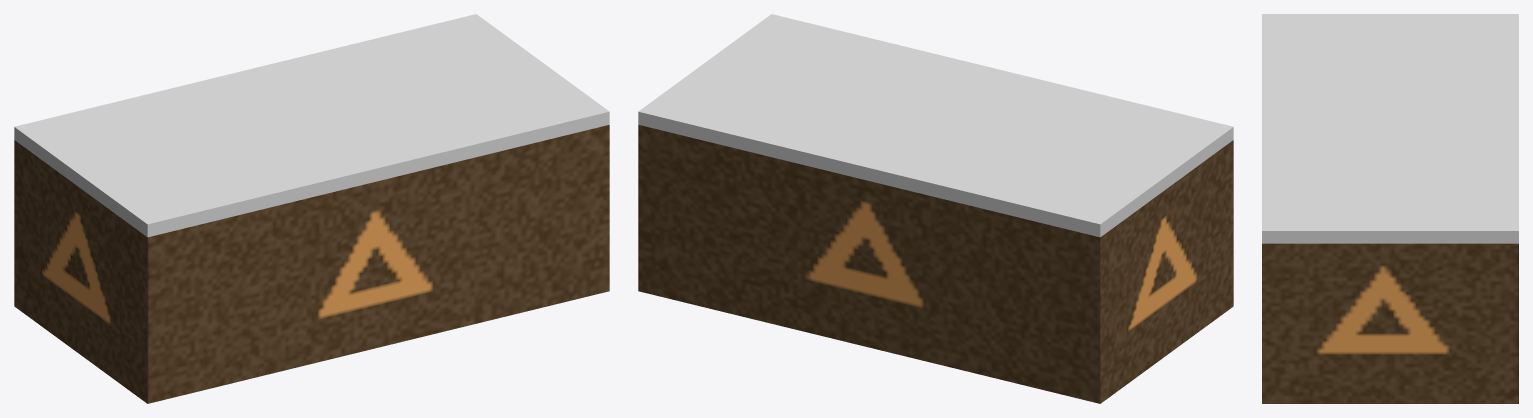
Rendered from Chest.fbx.
3 views of the same model, side by side, from view 1: azimuth 30°, elevation 25°; view 2: azimuth 150°, elevation 25°; view 3: azimuth 270°, elevation 25° (orthographic). The views are drawn at different scales.
Visible parts, largest first — view 1: Cube, Cube.001; view 2: Cube, Cube.001; view 3: Cube.001, Cube.
Part boxes in pixels (box(x1,y1,x2,y2)): Cube: box(14, 125, 609, 403); Cube.001: box(14, 14, 609, 237); Cube: box(638, 125, 1233, 403); Cube.001: box(638, 14, 1233, 237); Cube.001: box(1262, 14, 1518, 243); Cube: box(1262, 243, 1518, 403).
Bounding box in the file's own units: 100 × 37.12 × 50.
